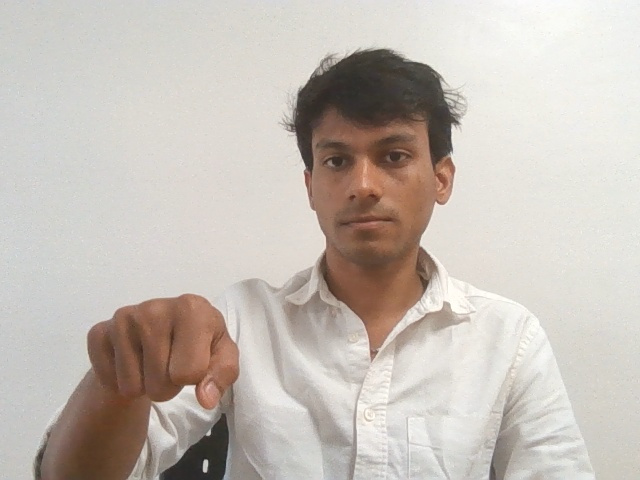Yes: (79, 291, 246, 413)
